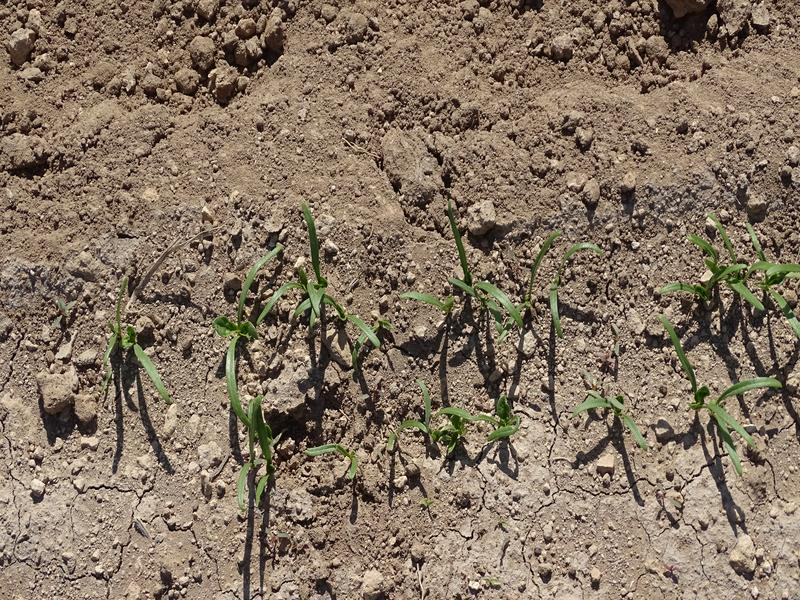Espinaca: (207, 207, 384, 362), (654, 313, 778, 462), (415, 237, 601, 333), (654, 227, 800, 305), (217, 365, 281, 497), (406, 384, 527, 447), (99, 316, 178, 406), (571, 385, 645, 450), (307, 439, 358, 483)
